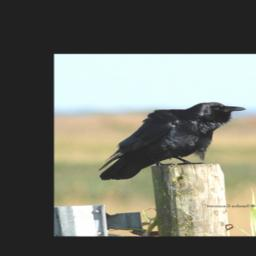Crow: (96, 102, 247, 182)
